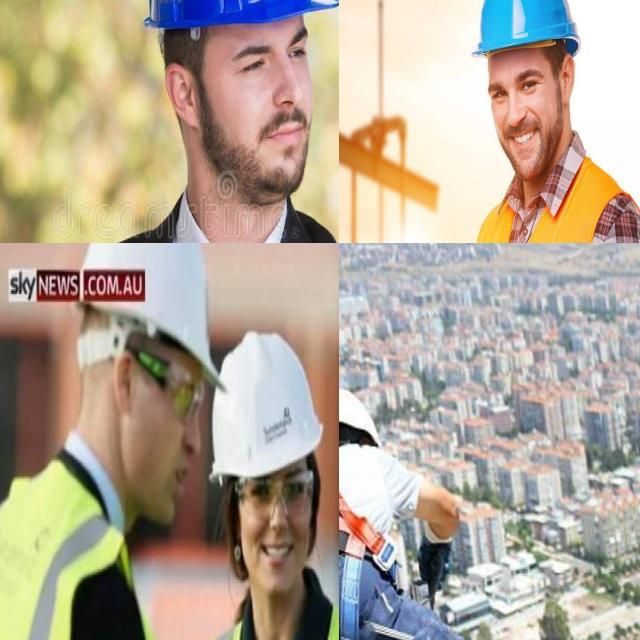Harness: (339, 493, 396, 573)
No_Ear-Protection: (160, 53, 210, 146)
No_Glasses: (217, 15, 325, 107), (559, 49, 579, 114)
face_nomask: (116, 319, 206, 533), (474, 54, 573, 186), (232, 468, 324, 594)
glasses: (231, 464, 318, 522), (158, 352, 210, 432)
head_helmet: (71, 243, 214, 379), (202, 329, 325, 480), (468, 0, 577, 62)
person: (0, 243, 195, 640), (186, 311, 339, 640), (441, 0, 640, 243)
vest: (0, 456, 160, 640)
